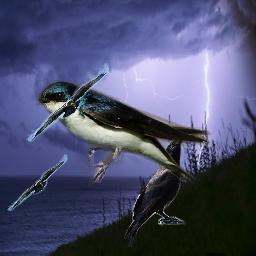Crow: (124, 134, 186, 247), (26, 63, 111, 142), (7, 154, 68, 211)
Swallow: (36, 80, 217, 187)
